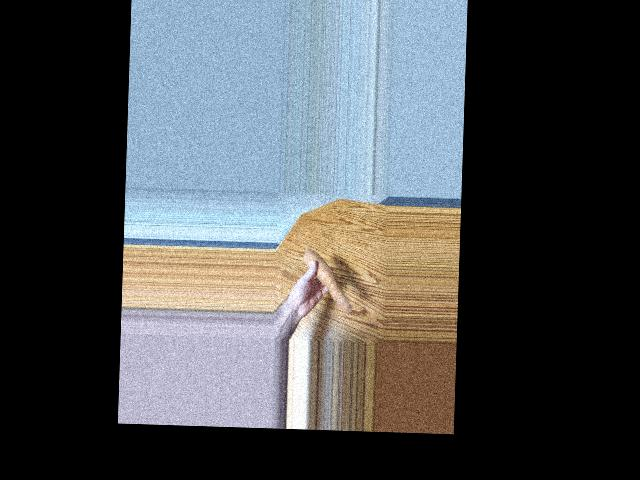sweet_potato: (300, 254, 351, 312)
